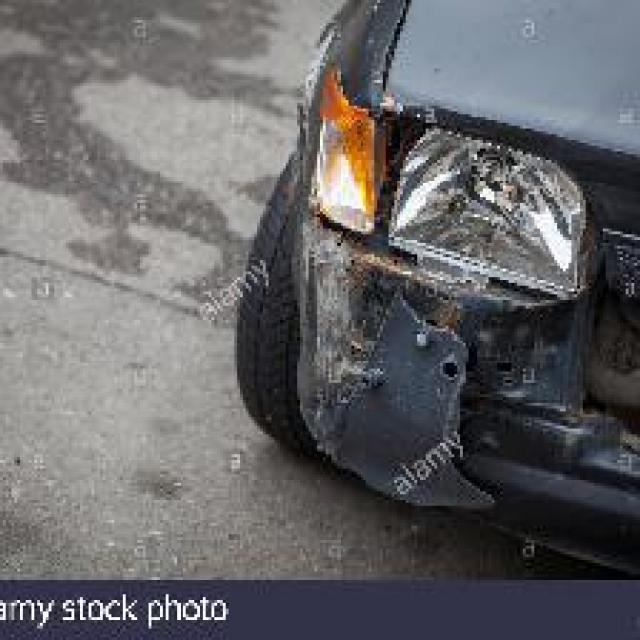damaged: (292, 43, 637, 520)
